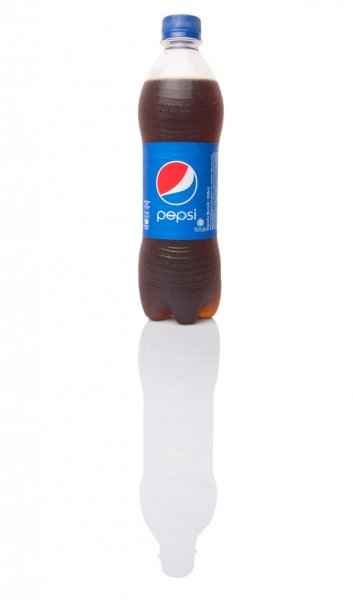pepsi_bottle: (137, 15, 224, 323)
